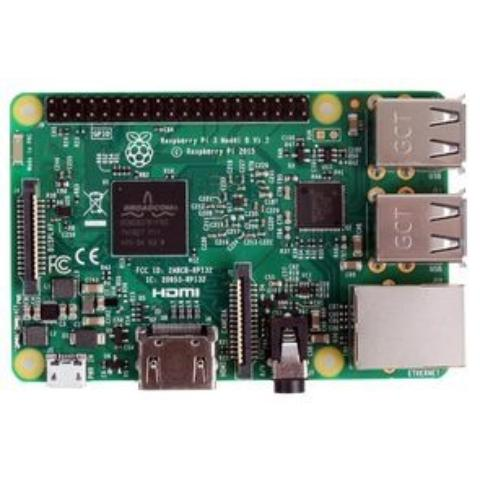Raspberry-Pi-3-Model-B: (0, 83, 472, 399)
